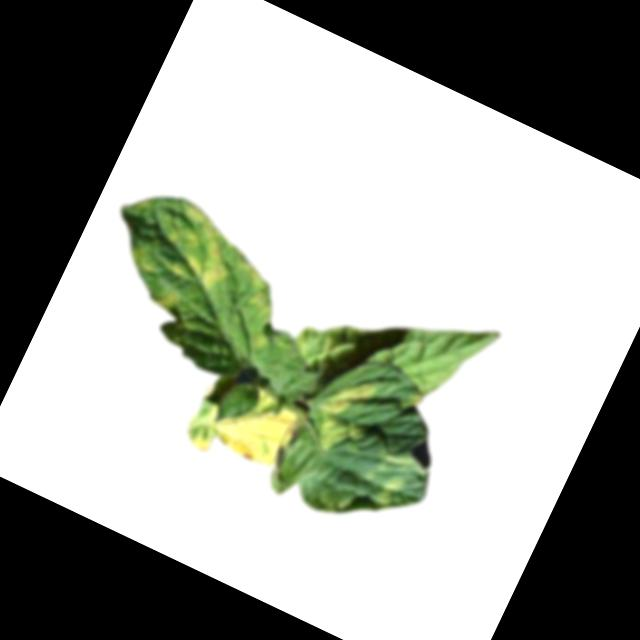Leaf_Mold: (116, 187, 248, 327), (181, 365, 308, 485), (302, 363, 386, 463)
